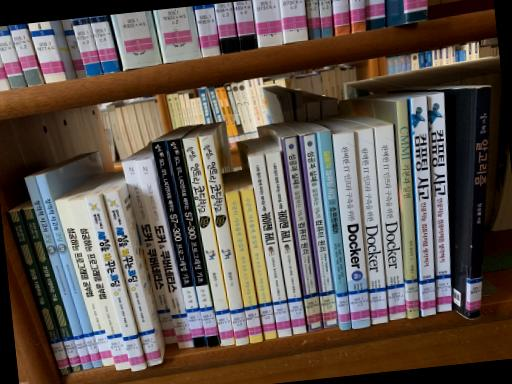book-spine: (24, 175, 92, 370), (35, 173, 102, 368), (150, 141, 207, 348), (165, 137, 218, 347), (135, 158, 193, 349), (182, 137, 234, 346), (68, 199, 131, 370), (198, 134, 249, 345), (6, 210, 71, 375), (85, 194, 145, 372), (103, 190, 162, 366), (121, 159, 177, 344), (54, 197, 114, 365), (21, 207, 81, 372), (282, 135, 323, 331), (249, 155, 292, 337), (265, 152, 306, 334), (300, 132, 338, 328), (332, 132, 370, 328), (354, 128, 388, 324), (318, 130, 350, 330), (375, 124, 406, 320), (225, 191, 264, 343), (238, 188, 277, 339), (410, 95, 436, 316), (427, 92, 452, 311), (469, 85, 491, 319), (396, 99, 419, 318)
